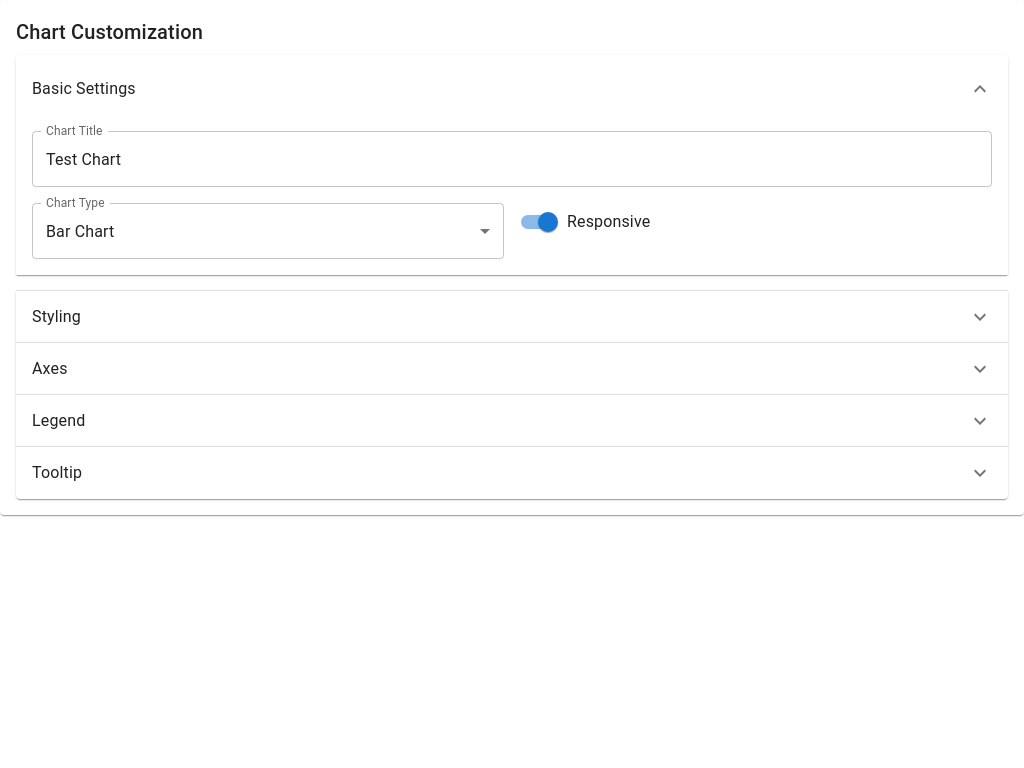
Test: ChartCustomizer Component › displays axis configuration options
# Expand axes section
Click the button "Axes" at (50, 368), box [32,357,992,381]
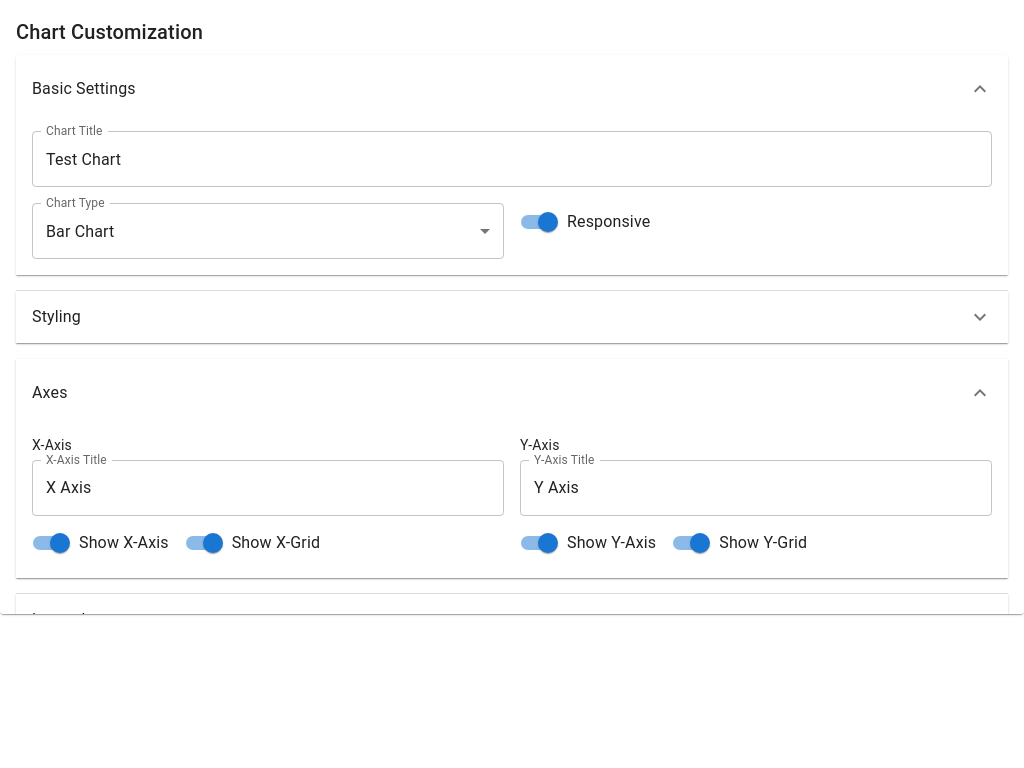
Result: the field showing "X Axis" is shown at [32,460,504,516]
Result: the field showing "Y Axis" is shown at [520,460,992,516]
Result: the checkbox labelled "Show X-Axis" is shown at [33,533,169,553]
